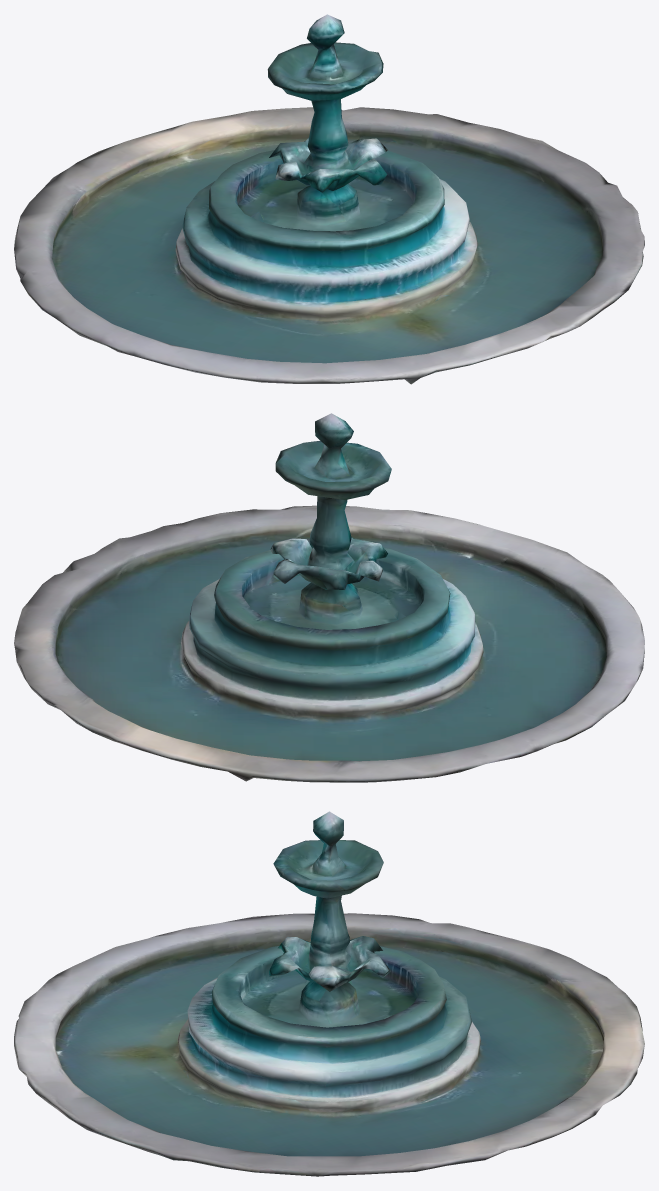
Rendered from fountain.glb.
3 views of the same model, one above another, from view 1: azimuth 30°, elevation 25°; view 2: azimuth 150°, elevation 25°; view 3: azimuth 270°, elevation 25° (orthographic).
Size of the model in its own units: 2 by 0.8811 by 1.99.
1 material, 1 textured.
